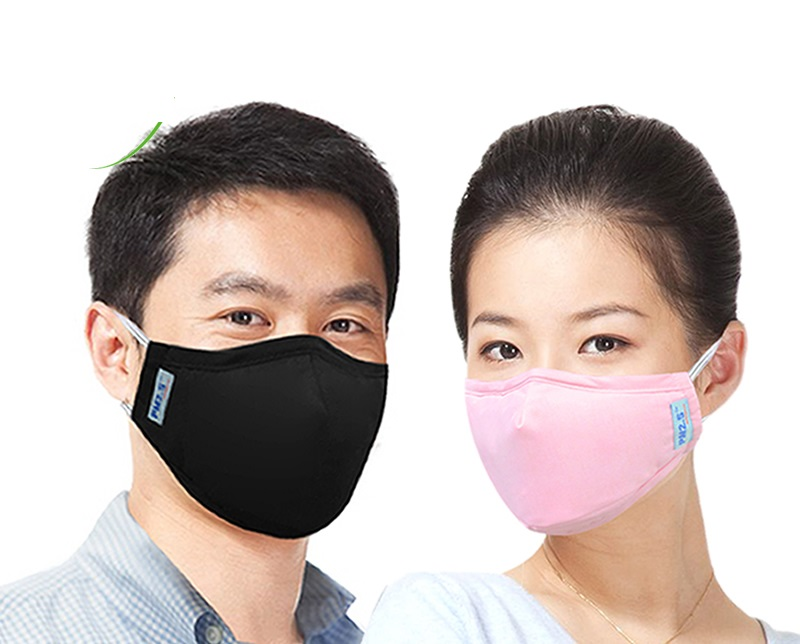face_mask: (144, 195, 392, 543), (455, 214, 701, 524)
